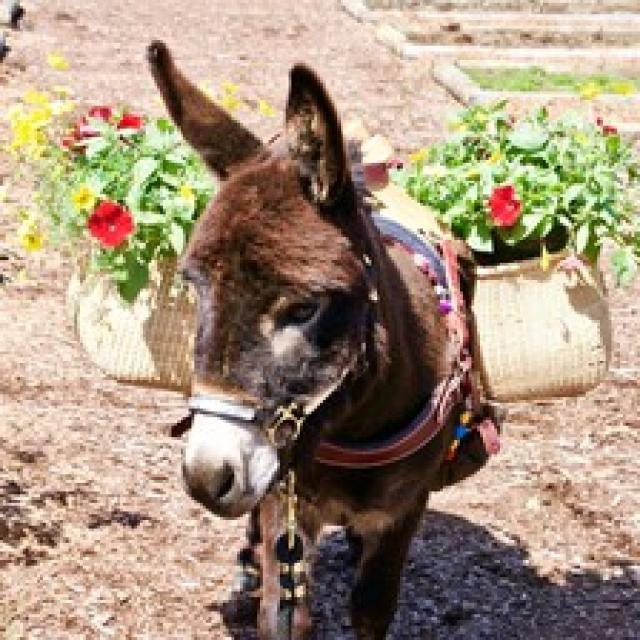Donkey: (143, 34, 503, 637), (0, 0, 25, 71)
